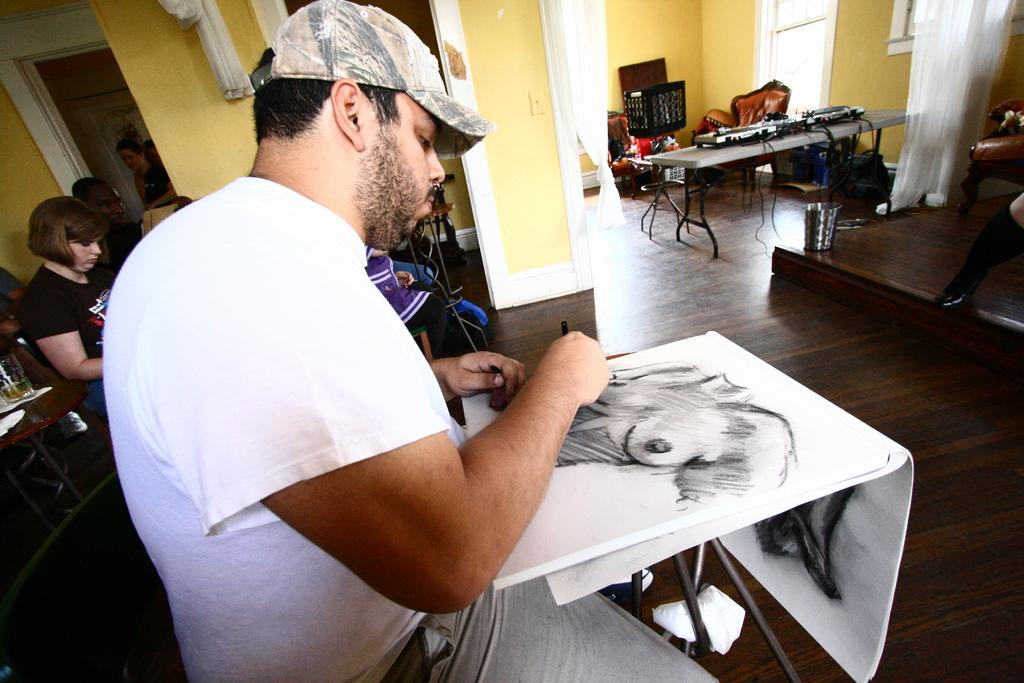Hat: (247, 0, 498, 158)
